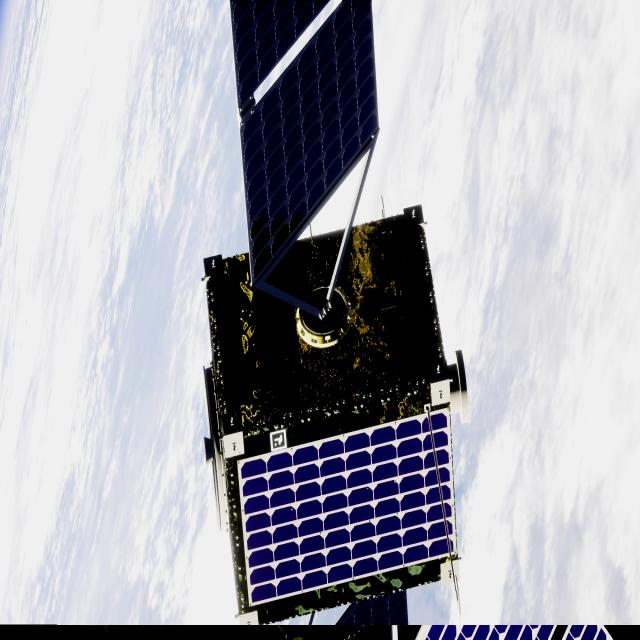satellite: (203, 0, 465, 625)
